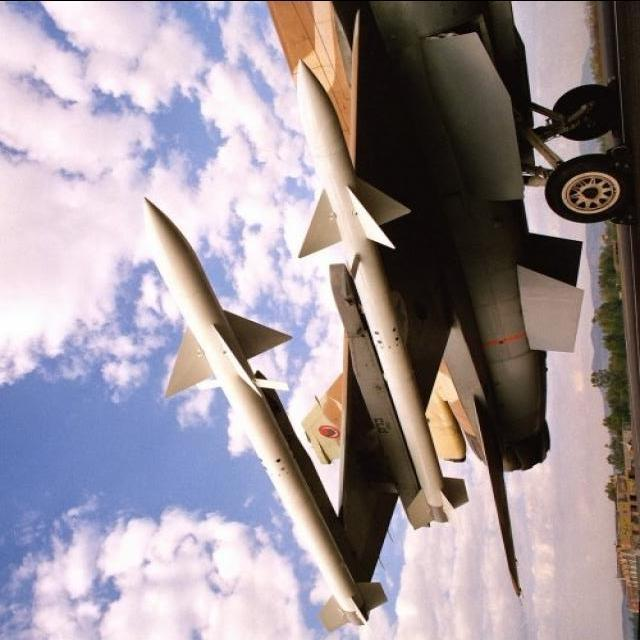missile: (135, 192, 388, 625), (285, 58, 472, 527)
